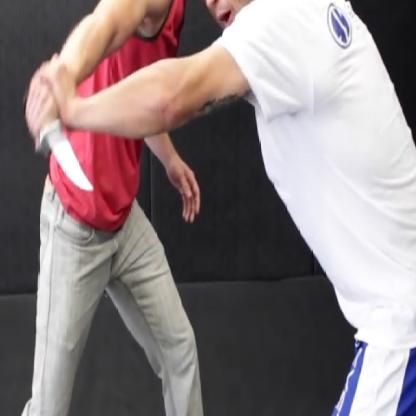knife: (18, 79, 99, 202)
